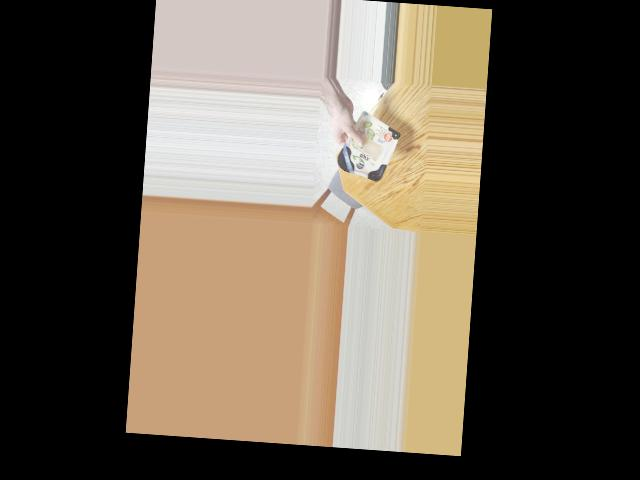cheese: (338, 121, 398, 185)
